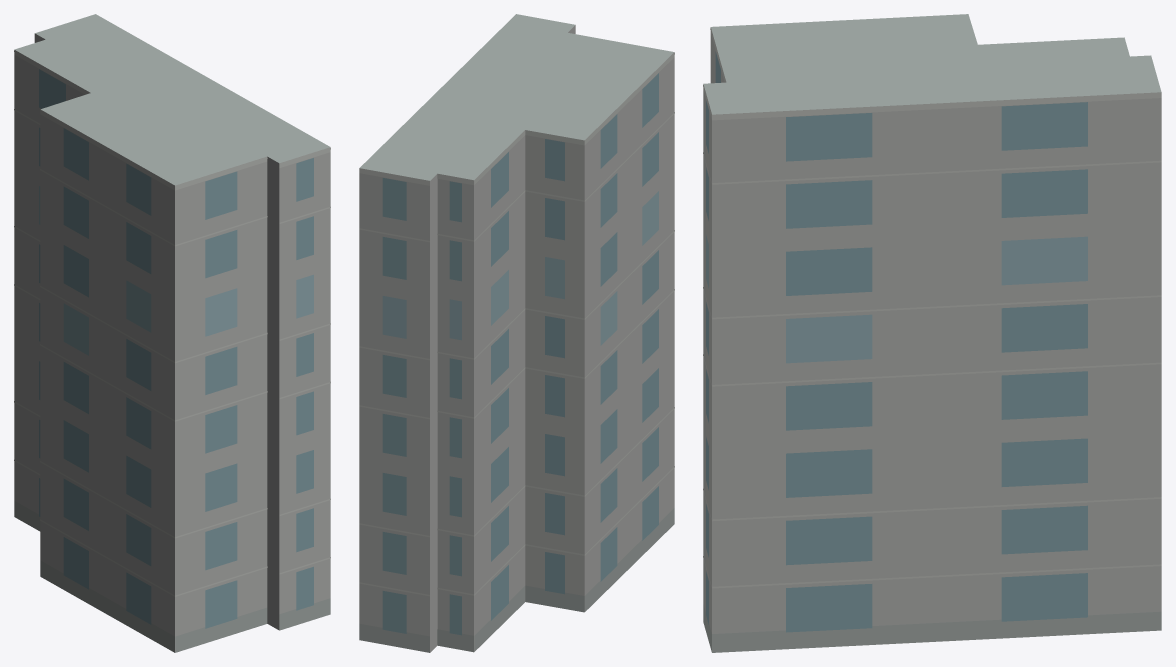
The model's file is survey-upis-32804399.glb.
The picture shows the model from 3 angles, left to right: view 1: azimuth 30°, elevation 25°; view 2: azimuth 150°, elevation 25°; view 3: azimuth 270°, elevation 25°; orthographic projection. The views are drawn at different scales.
Visible parts, largest first — view 1: survey-upis-32804399.tmp; view 2: survey-upis-32804399.tmp; view 3: survey-upis-32804399.tmp.
Part boxes in pixels (left/top/right/bottom): survey-upis-32804399.tmp: left=14, top=14, right=330, bottom=652; survey-upis-32804399.tmp: left=359, top=14, right=674, bottom=652; survey-upis-32804399.tmp: left=703, top=14, right=1161, bottom=652.
Size of the model in its own units: 9.17 by 22.8 by 17.62.
